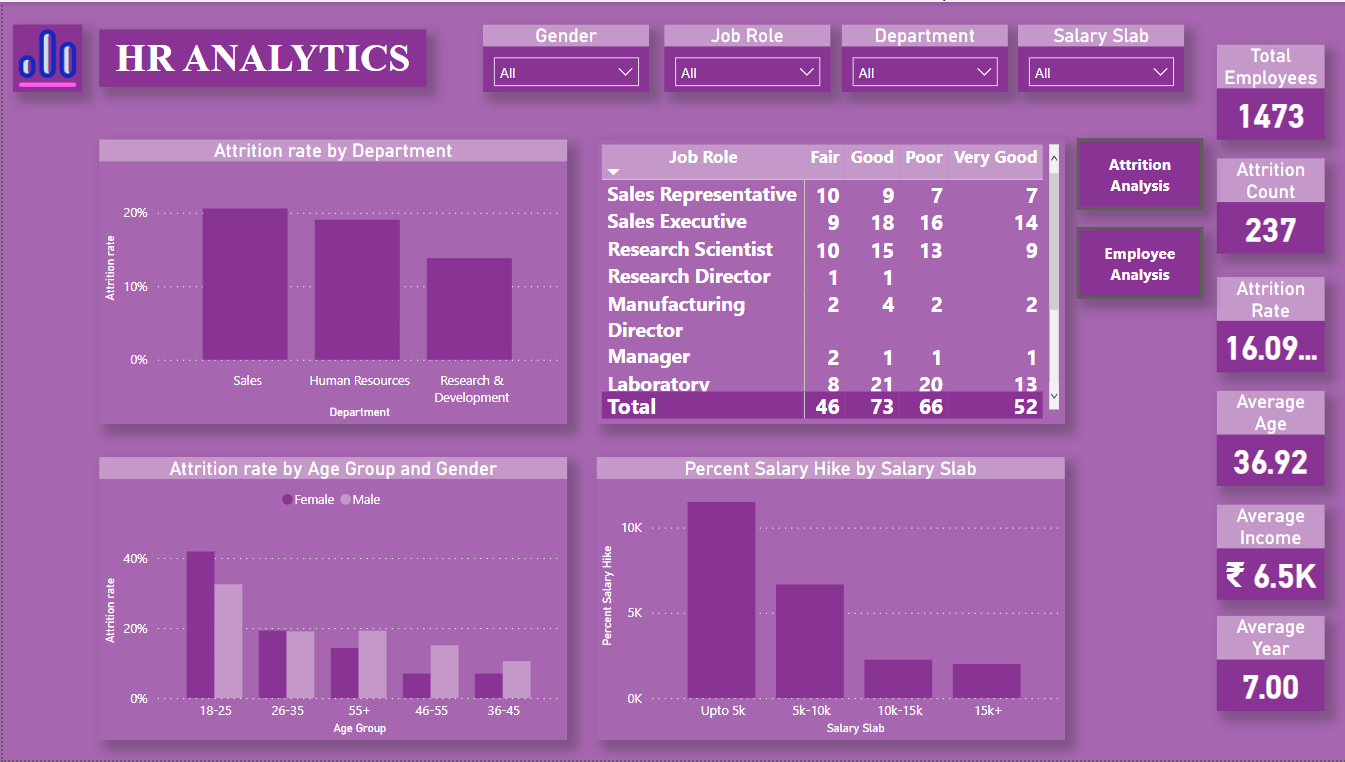

The dashboard page shown, as its layout file describes it:
{"tool":"powerbi","page":{"name":"Page 1","canvas":[1280,720],"ordinal":0},"visuals":[{"type":"card","title":"Total Employees","fields":{"Values":["HR_Analytics.Total Employees"]},"box":[1151.2,40,102.5,90],"z":0},{"type":"card","title":"Attrition Rate","fields":{"Values":["HR_Analytics.Attrition rate"]},"box":[1151.2,261.2,102.5,90],"z":1000},{"type":"card","title":"Average Age","fields":{"Values":["HR_Analytics.Average age"]},"box":[1151.2,368.8,102.5,90],"z":2000},{"type":"card","title":"Average Income","fields":{"Values":["HR_Analytics.Average monthly Income"]},"box":[1151.2,476.2,102.5,90],"z":3000},{"type":"card","title":"Average Year","fields":{"Values":["HR_Analytics.Average Year at Company"]},"box":[1151.2,582.5,102.5,90],"z":4000},{"type":"card","title":"Attrition Count","fields":{"Values":["HR_Analytics.Attrition Count"]},"box":[1151.2,148.8,102.5,90],"z":5000},{"type":"columnChart","fields":{"Y":["HR_Analytics.Attrition rate"],"Category":["HR_Analytics.Department"]},"box":[91.2,130,443.8,270],"z":6000},{"type":"pivotTable","fields":{"Rows":["HR_Analytics.Job Role"],"Columns":["HR_Analytics.Job Satisfactions"],"Values":["HR_Analytics.Attrition Count"]},"box":[563.8,130,443.8,270],"z":7000},{"type":"clusteredColumnChart","fields":{"Y":["HR_Analytics.Attrition rate"],"Category":["HR_Analytics.Age Group"],"Series":["HR_Analytics.Gender"]},"box":[91.2,431.2,443.8,268.8],"z":8000},{"type":"clusteredColumnChart","fields":{"Y":["Sum(HR_Analytics.Percent Salary Hike)"],"Category":["HR_Analytics.Salary Slab"]},"box":[563.8,431.2,443.8,268.8],"z":9000},{"type":"slicer","title":"Gender","fields":{"Values":["HR_Analytics.Gender"]},"box":[455.5,21.4,157.8,64.1],"z":10000},{"type":"slicer","title":"Job Role","fields":{"Values":["HR_Analytics.Job Role"]},"box":[627.5,21.4,157.8,64.1],"z":11000},{"type":"slicer","title":"Department","fields":{"Values":["HR_Analytics.Department"]},"box":[795.9,21.4,157.8,64.1],"z":12000},{"type":"slicer","title":"Salary Slab","fields":{"Values":["HR_Analytics.Salary Slab"]},"box":[963.2,21.4,157.8,64.1],"z":13000},{"type":"textbox","box":[91.3,26.1,310.8,54.6],"z":14000},{"type":"image","box":[9.5,21.4,65.2,64.1],"z":15000},{"type":"actionButton","box":[1019.1,214,120,68],"z":16000},{"type":"actionButton","box":[1019.1,129.9,120,68],"z":17000}]}

Visuals, with their boxes in screenshot pixels (x1, y1, x2, y2), scaled from the page's 1280x720 canvas onto the 1345x762 screenshot:
"Total Employees" card: rect(1210, 42, 1317, 138)
"Attrition Rate" card: rect(1210, 276, 1317, 372)
"Average Age" card: rect(1210, 390, 1317, 486)
"Average Income" card: rect(1210, 504, 1317, 599)
"Average Year" card: rect(1210, 616, 1317, 712)
"Attrition Count" card: rect(1210, 157, 1317, 253)
columnChart - HR_Analytics.Attrition rate x HR_Analytics.Department: rect(96, 138, 562, 423)
pivotTable - HR_Analytics.Job Role x HR_Analytics.Job Satisfactions: rect(592, 138, 1059, 423)
clusteredColumnChart - HR_Analytics.Attrition rate x HR_Analytics.Age Group: rect(96, 456, 562, 741)
clusteredColumnChart - Sum(HR_Analytics.Percent Salary Hike) x HR_Analytics.Salary Slab: rect(592, 456, 1059, 741)
"Gender" slicer: rect(479, 23, 644, 90)
"Job Role" slicer: rect(659, 23, 825, 90)
"Department" slicer: rect(836, 23, 1002, 90)
"Salary Slab" slicer: rect(1012, 23, 1178, 90)
textbox: rect(96, 28, 423, 85)
image: rect(10, 23, 78, 90)
actionButton: rect(1071, 226, 1197, 298)
actionButton: rect(1071, 137, 1197, 209)
